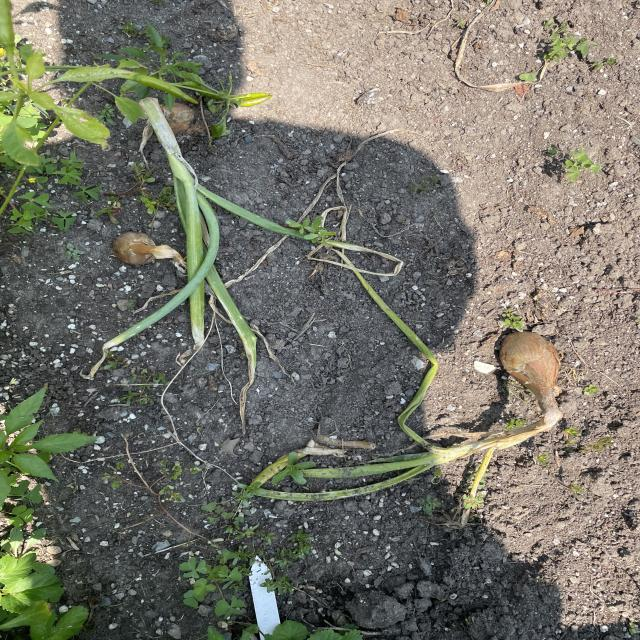Onion: (267, 328, 569, 512), (138, 94, 334, 258), (107, 219, 269, 366)
weed: (176, 511, 311, 613), (509, 22, 604, 91), (538, 142, 610, 187)
